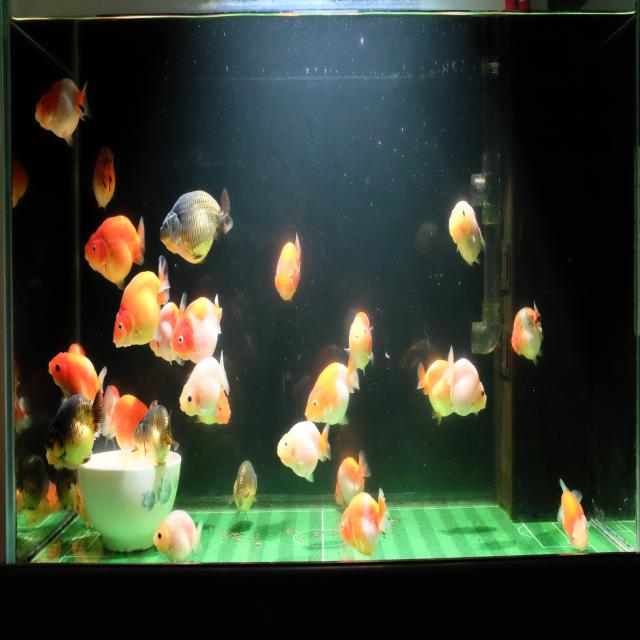Goldfish: (158, 185, 233, 264), (110, 256, 170, 353), (83, 211, 147, 293), (42, 389, 105, 468), (33, 74, 89, 146), (302, 358, 360, 427), (338, 484, 391, 558), (170, 292, 223, 366), (275, 419, 333, 485), (47, 348, 107, 410), (177, 350, 230, 420), (443, 344, 488, 422), (102, 382, 148, 457), (131, 400, 179, 468), (414, 355, 459, 427), (448, 198, 486, 272), (153, 509, 203, 564), (556, 475, 590, 552), (12, 452, 50, 518), (334, 448, 372, 511), (510, 299, 545, 364), (344, 309, 376, 379), (274, 228, 302, 306), (227, 460, 258, 526), (92, 144, 117, 210), (100, 383, 120, 441)
